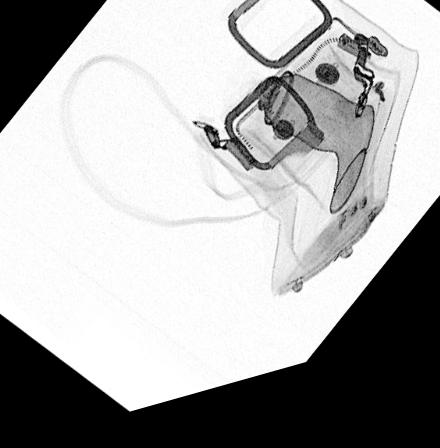Sprayer: (236, 76, 374, 232)
